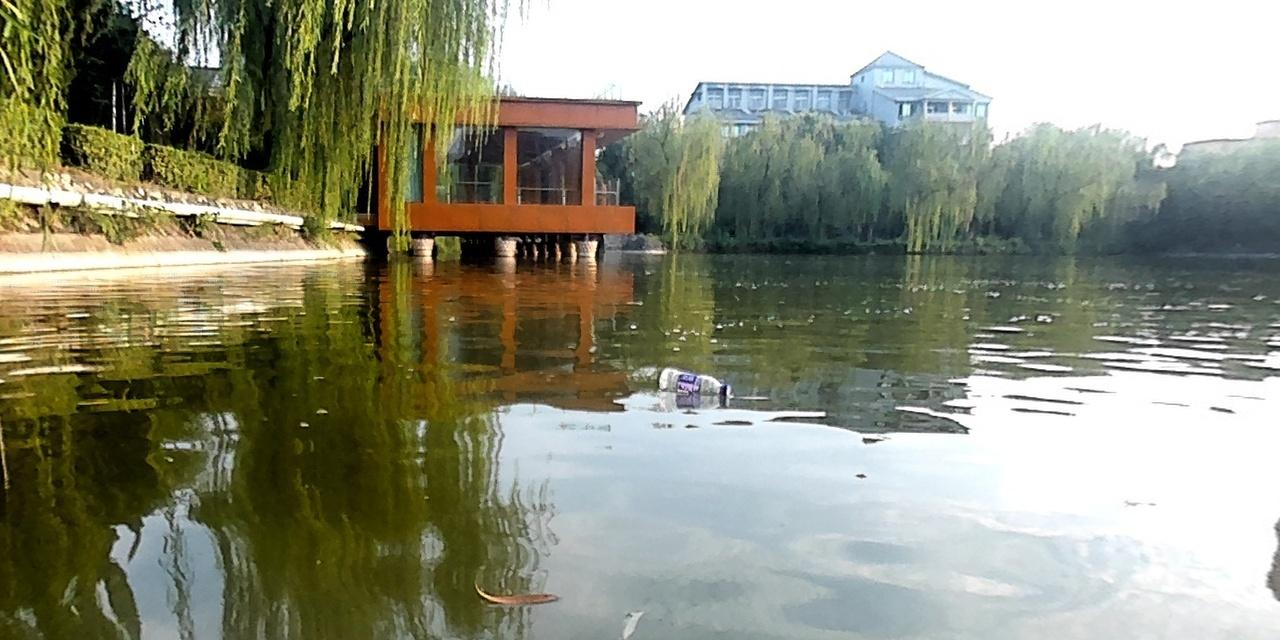bottle: (654, 363, 730, 399)
